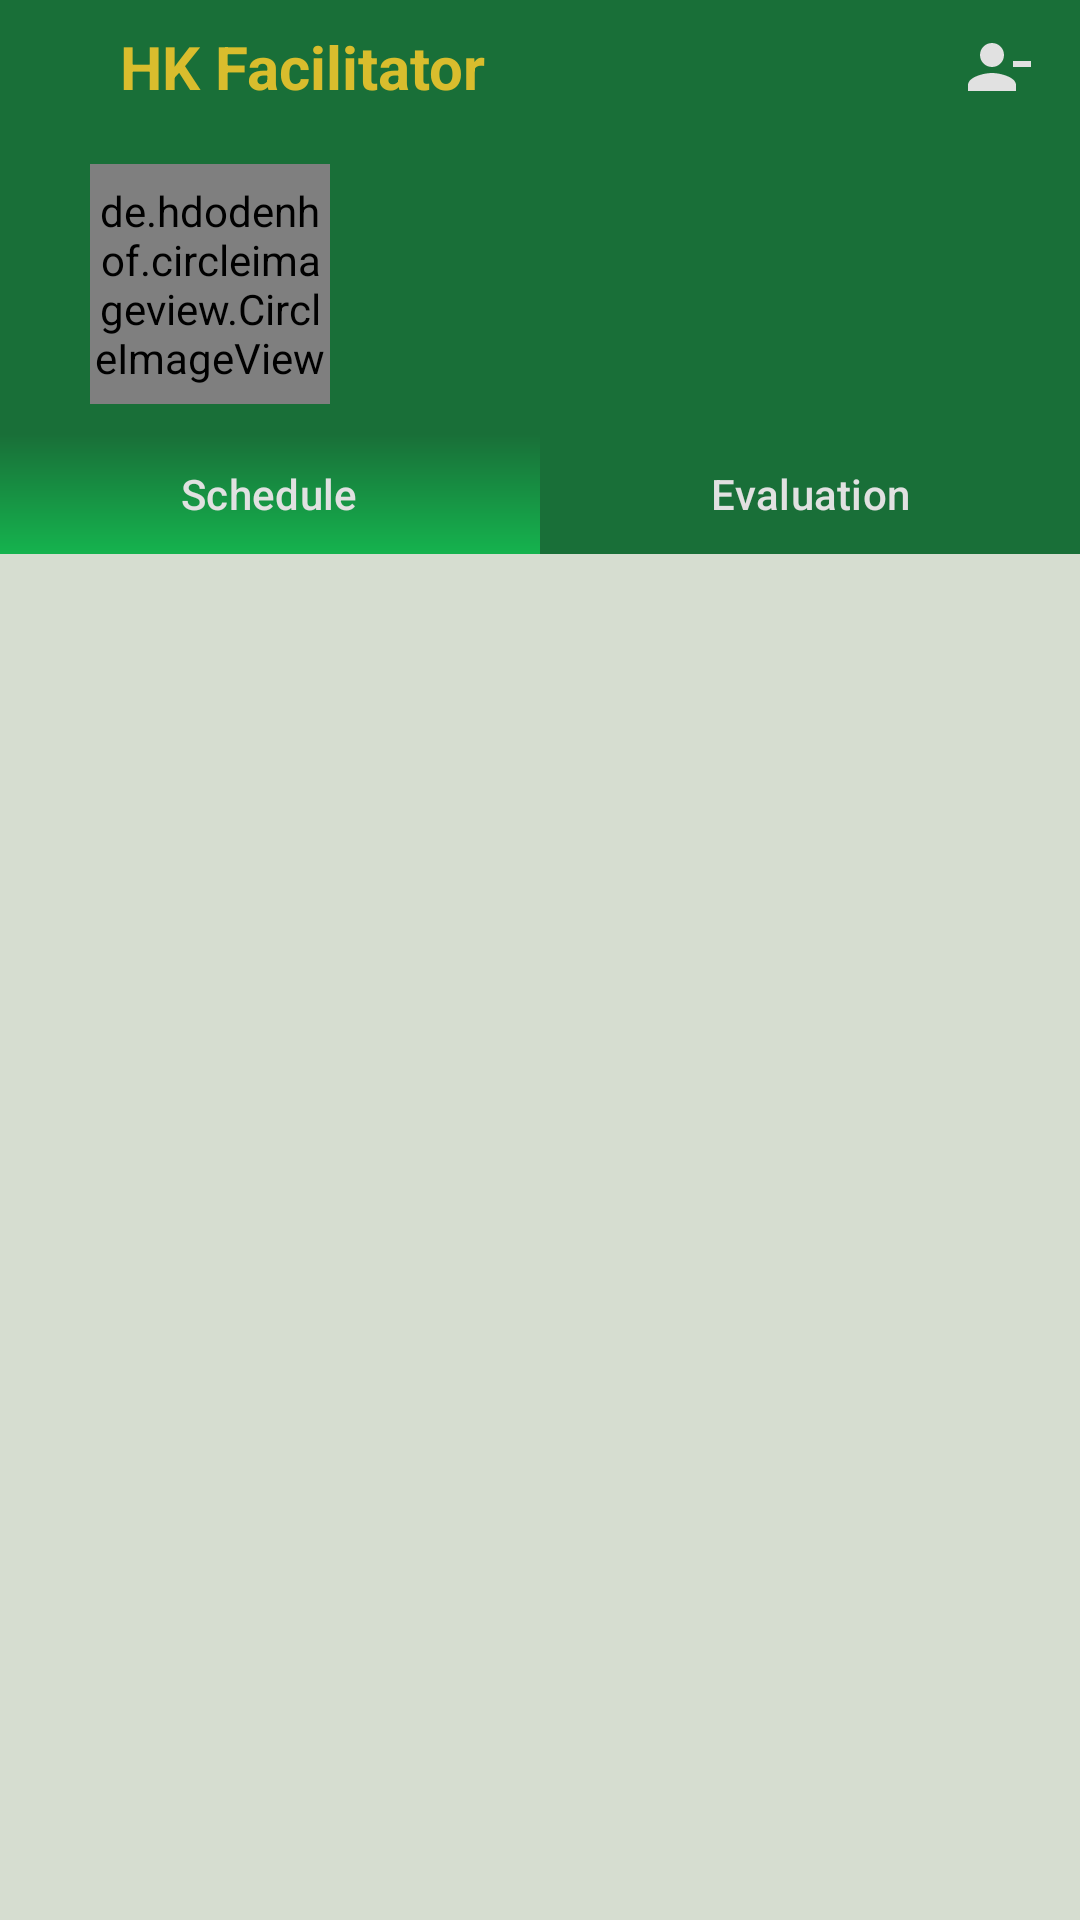

Named icons in this screenshot (1080px x 1920px) and their centers, (x=x, y=y):
Remove: (x=999, y=67)
